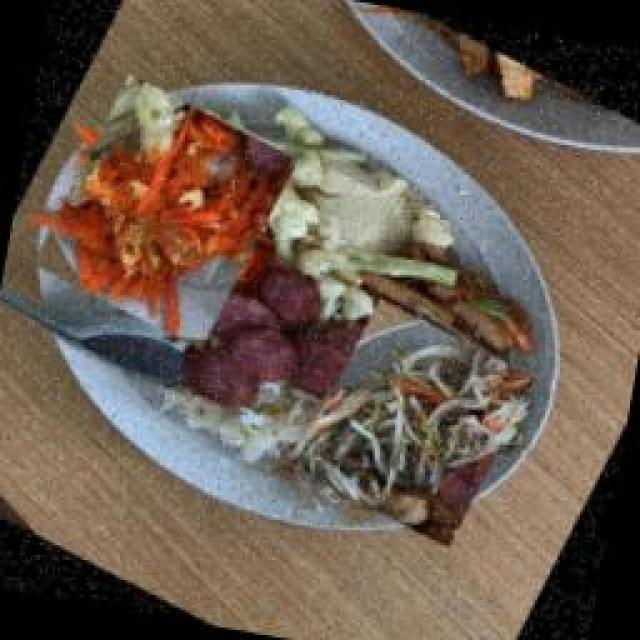carrot_eggs: (20, 65, 313, 358)
chinese_sausage: (158, 230, 411, 468)
mung_bean_sprouts: (285, 288, 545, 558)
